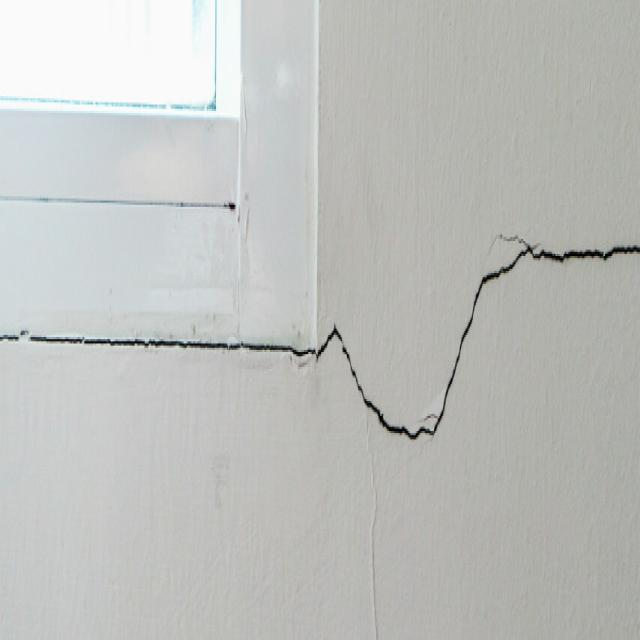Crack: (316, 228, 639, 444)
